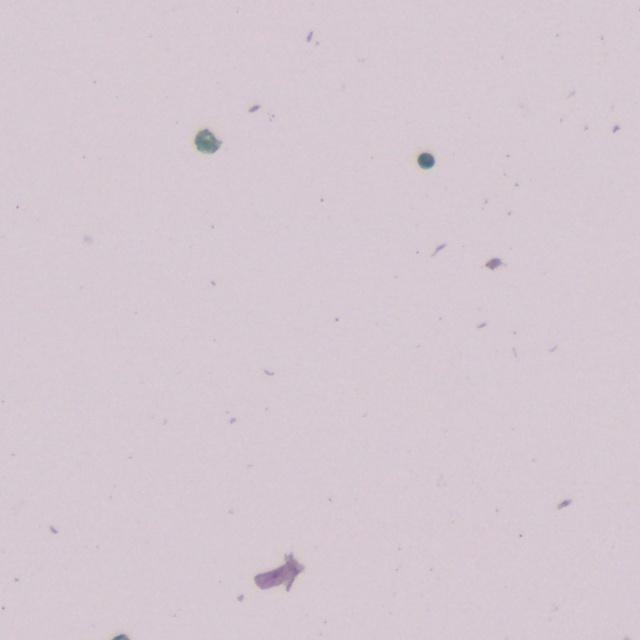non_viable: (195, 129, 221, 153), (417, 153, 434, 169)
